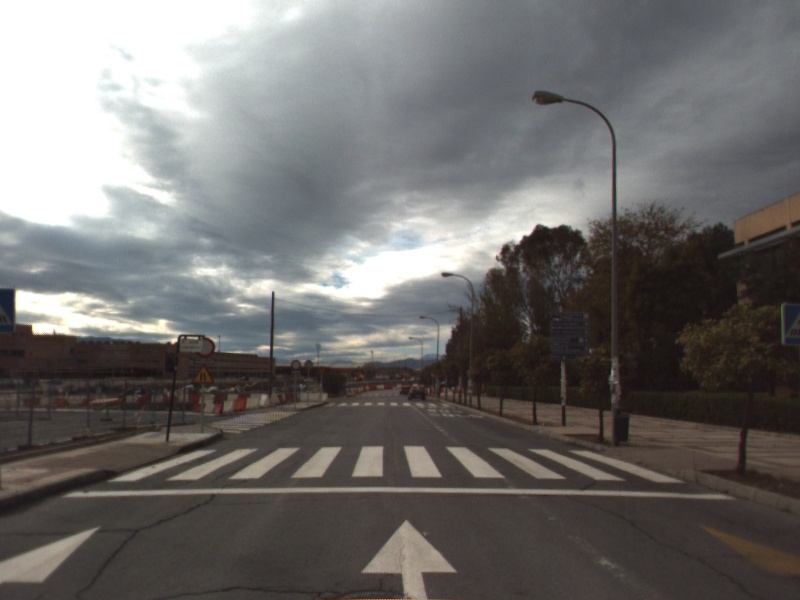STRAIGHT: (356, 515, 461, 600)
